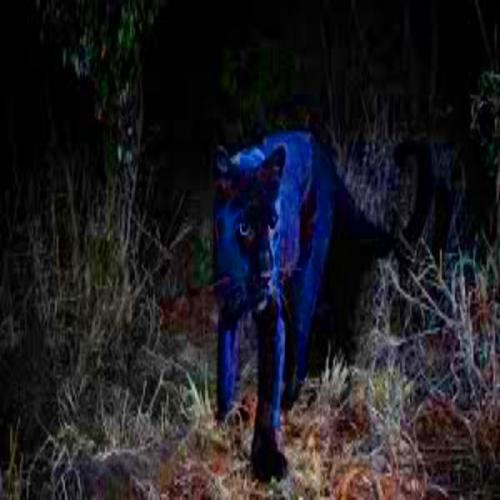panther-endangered: (212, 129, 336, 463)
